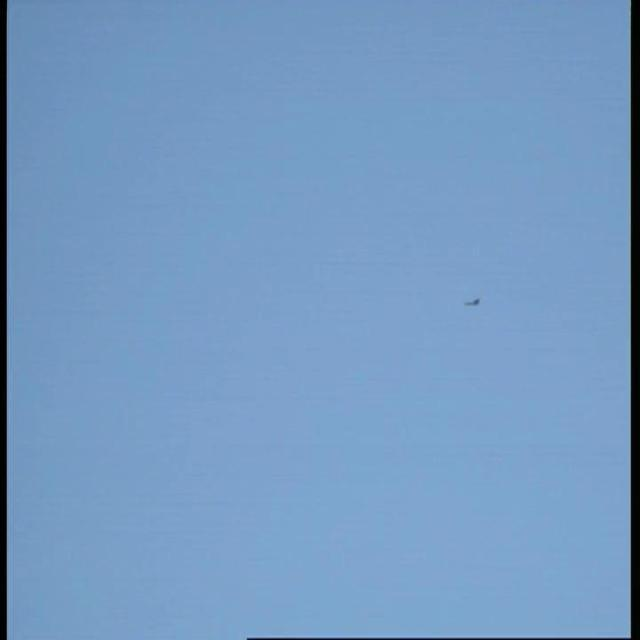drone: (456, 294, 484, 312)
